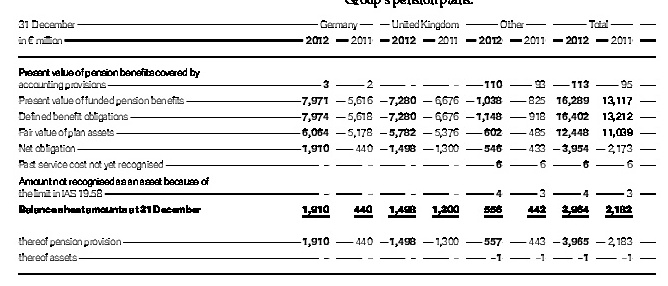table: (0, 0, 668, 286)
